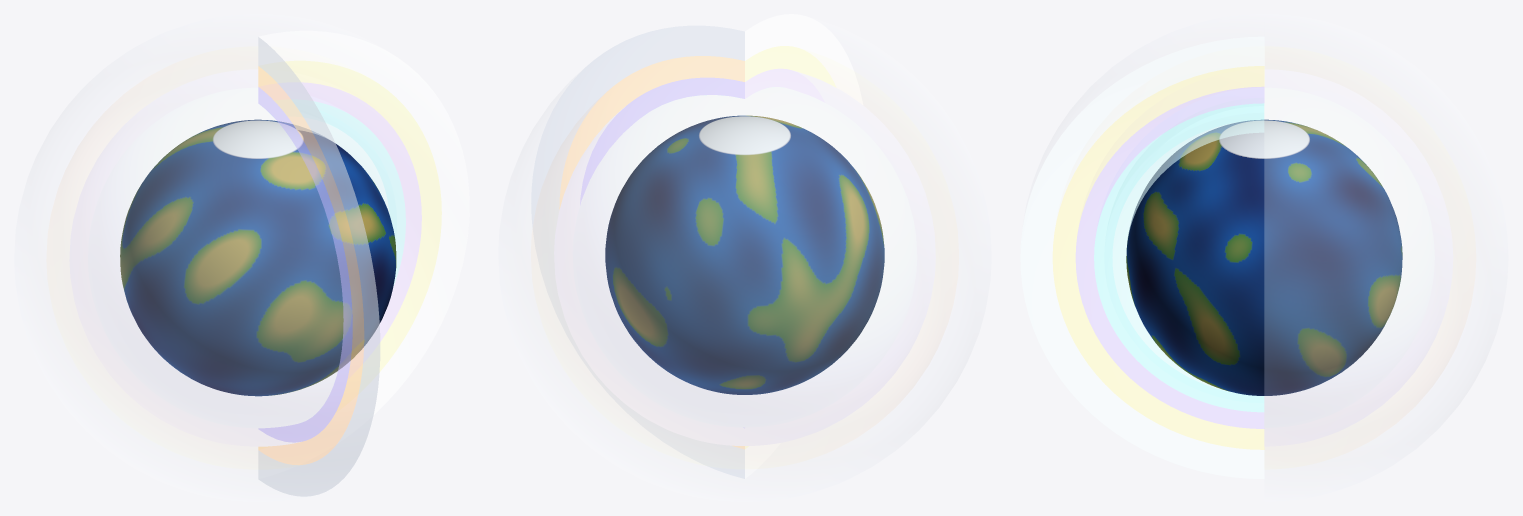
Rendered from sky.glb.
3 views of the same model, side by side, from view 1: azimuth 30°, elevation 25°; view 2: azimuth 150°, elevation 25°; view 3: azimuth 270°, elevation 25° (orthographic).
Size of the model in its own units: 0.6 by 0.6 by 0.6.
Materials: 12 (1 with a texture image).
